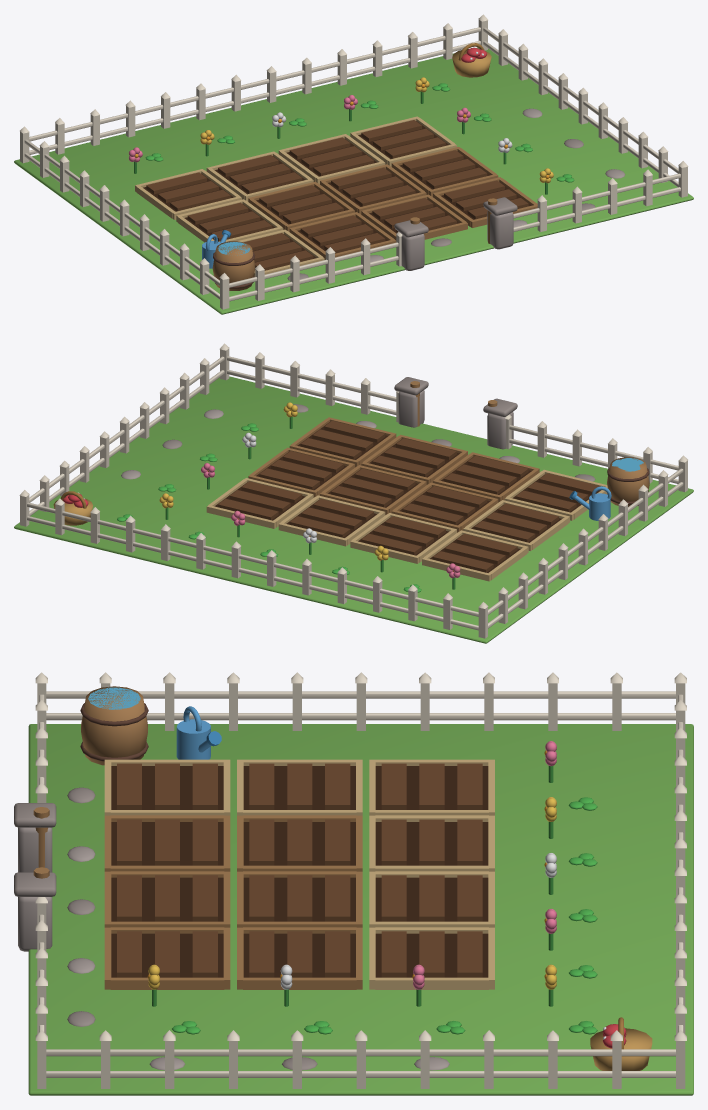
Rendered from garden2.glb.
3 views of the same model, one above another, from view 1: azimuth 30°, elevation 25°; view 2: azimuth 150°, elevation 25°; view 3: azimuth 270°, elevation 25° (orthographic). The views are drawn at different scales.
Visible parts, largest first — view 1: base, plank-plots, stone-path, shroom-basket; view 2: base, plank-plots, stone-path, shroom-basket; view 3: base, plank-plots, stone-path, shroom-basket.
Part boxes in pixels (box(x1,y1,x2,y2)): base: box(14, 14, 693, 314); plank-plots: box(135, 116, 456, 276); stone-path: box(287, 108, 625, 280); shroom-basket: box(452, 43, 491, 77); base: box(14, 343, 693, 643); plank-plots: box(206, 469, 607, 581); stone-path: box(121, 377, 595, 481); shroom-basket: box(53, 491, 92, 525); base: box(28, 672, 693, 1095); plank-plots: box(104, 759, 494, 989); stone-path: box(14, 787, 449, 1070); shroom-basket: box(590, 1017, 652, 1070).
Bounding box in the file's own units: 6.6 × 0.5999 × 5.14.
